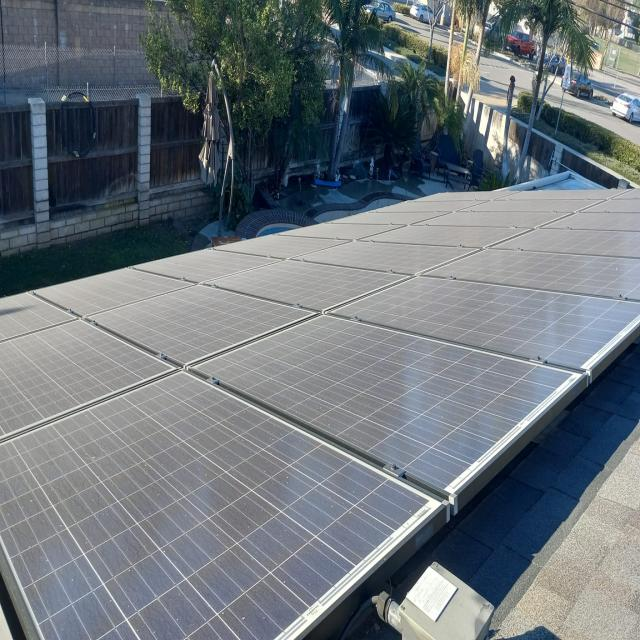dust-solar-panel: (0, 186, 640, 640)
